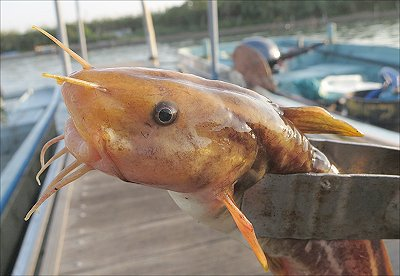gonzui: (35, 29, 340, 248)
